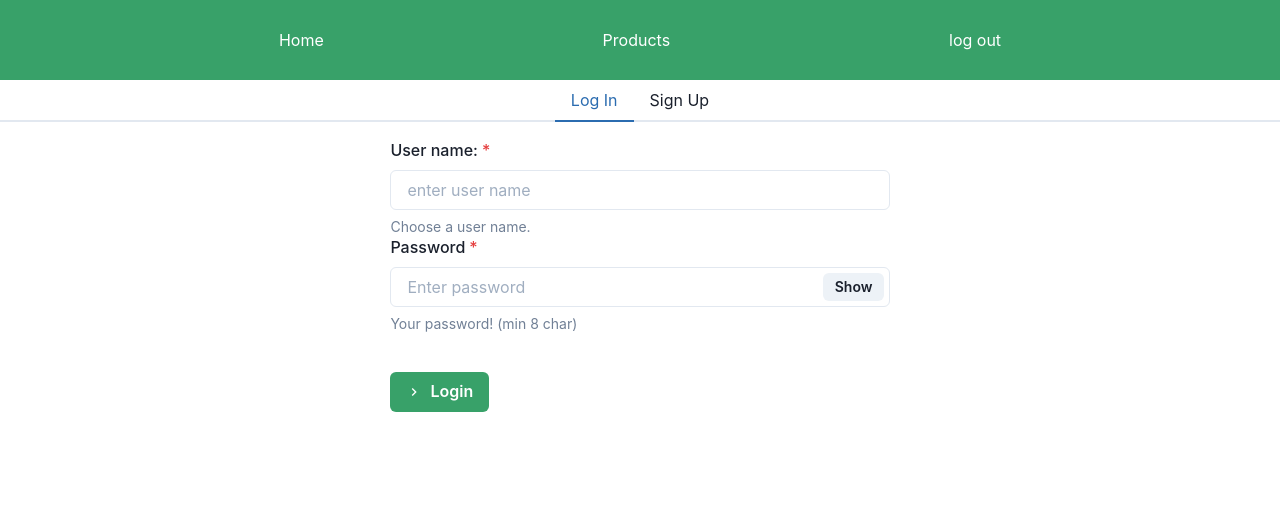
Test: Auth form renders properly › toggles to sign up tab
What coordinates should you click on to do the following:
click the tab with test id "signup-tab"
I would click on:
 (680, 101)
Its box is [634,80,726,122].
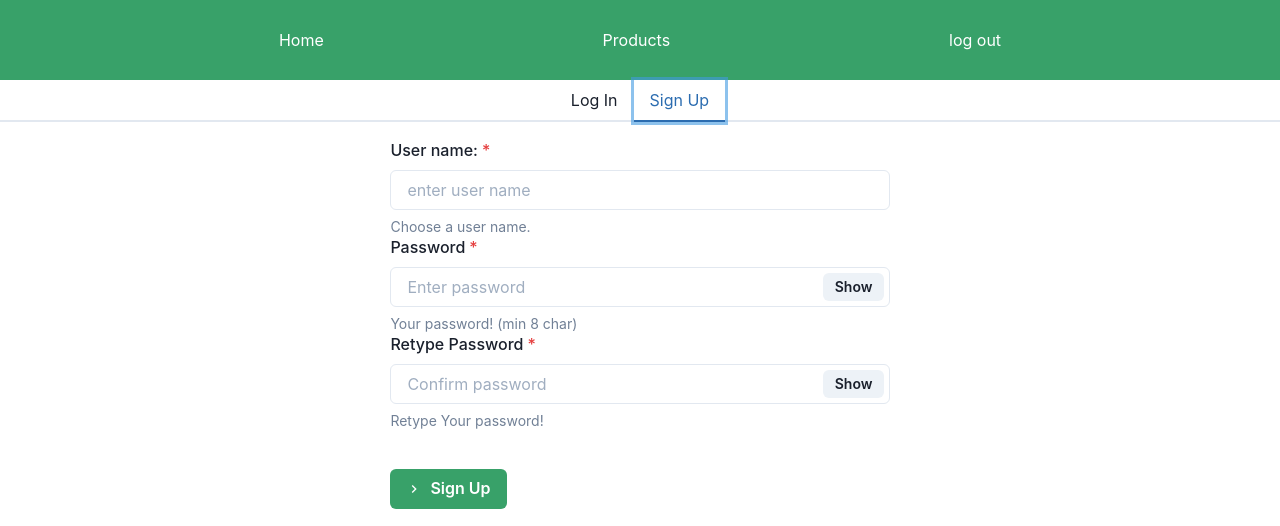
Expected: the element with test id "signup-form" is shown, [390,138,889,509]
